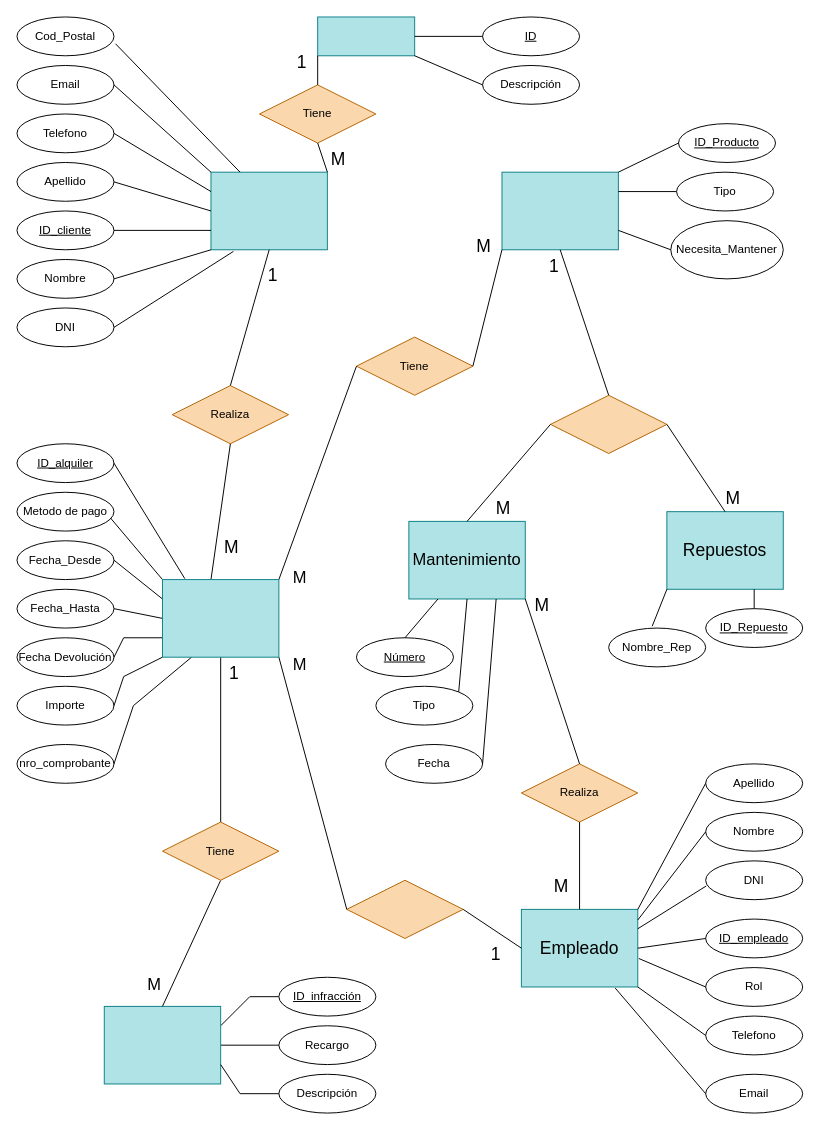
This 820x1130 diagram has some shape labels left out. The shapes that lost their labels are listed below. From the top down, each one's centre as x and y in pixels, then its label:
(x=366, y=36): Género
(x=268, y=210): Cliente
(x=559, y=210): Productos
(x=608, y=423): Usa
(x=220, y=618): Alquiler
(x=404, y=908): Genera
(x=162, y=1044): Infracción
